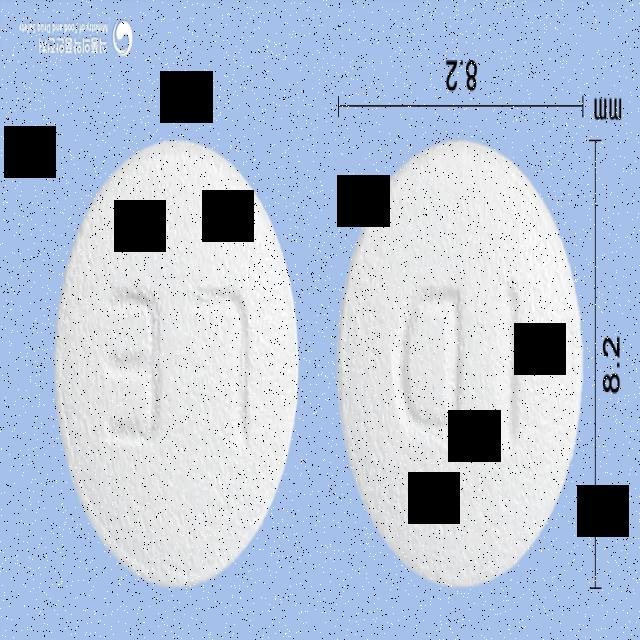Levofexin - 250mg: (338, 138, 584, 589), (54, 137, 297, 589)
